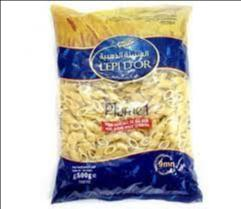plume: (52, 4, 200, 200)
